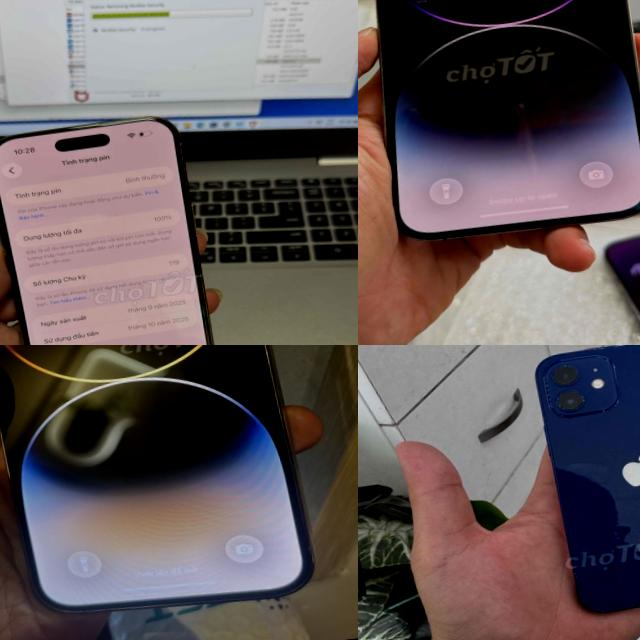gen_12_13: (527, 345, 640, 620)
gen_14: (0, 345, 332, 640), (358, 0, 640, 257)
gen_17: (0, 110, 235, 345)
